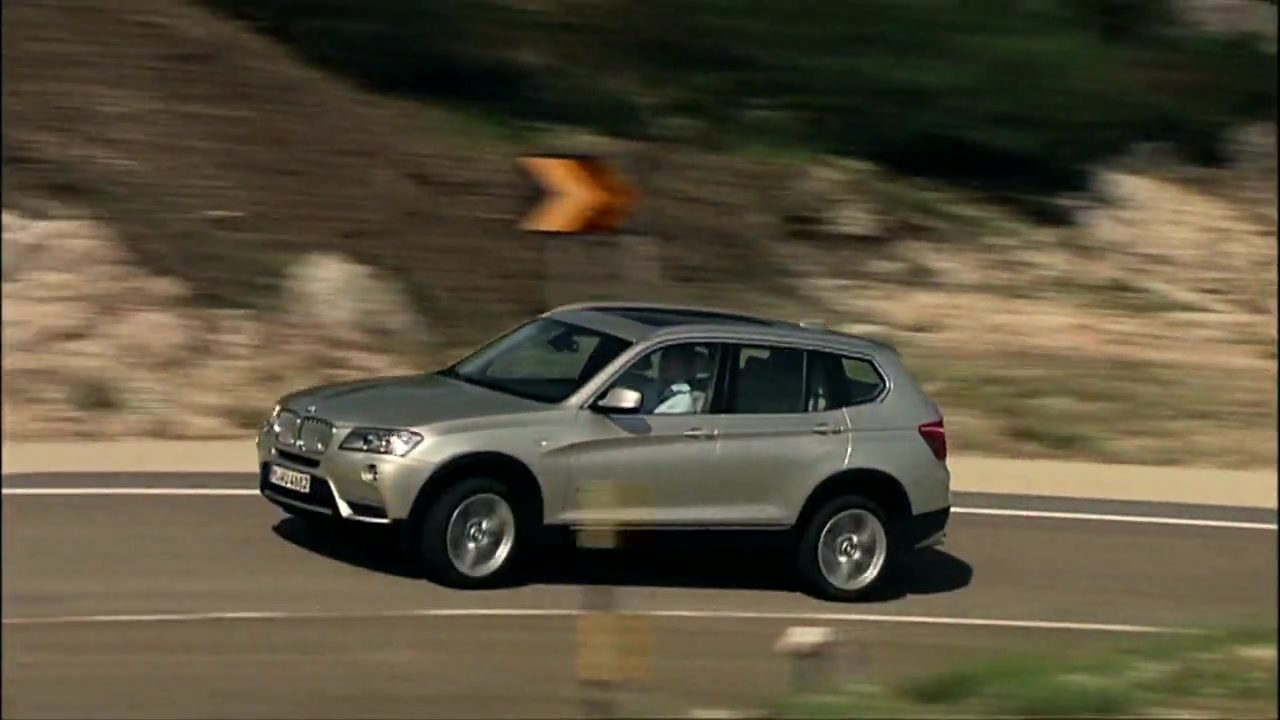car: (256, 297, 956, 603)
